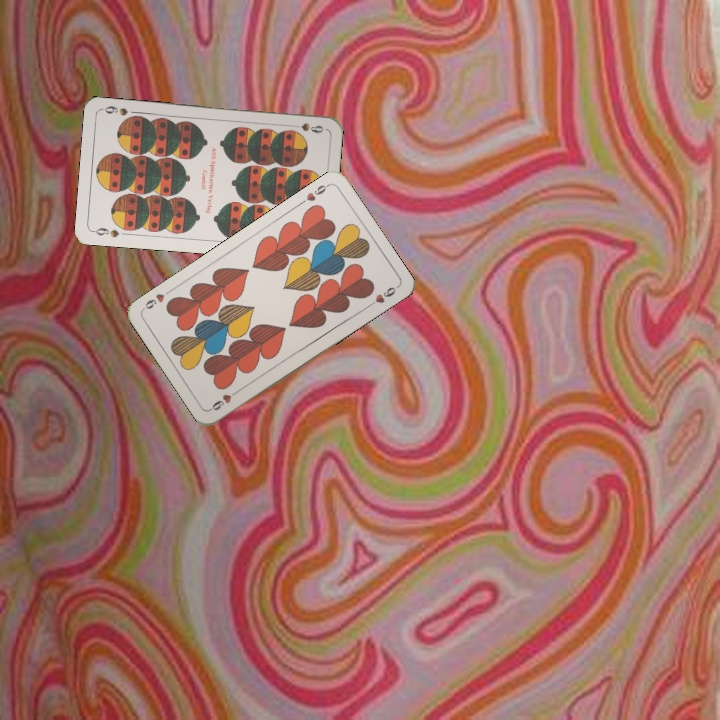H9: (206, 386, 242, 413), (296, 180, 332, 207)
S9: (286, 119, 326, 136), (89, 223, 122, 240)
